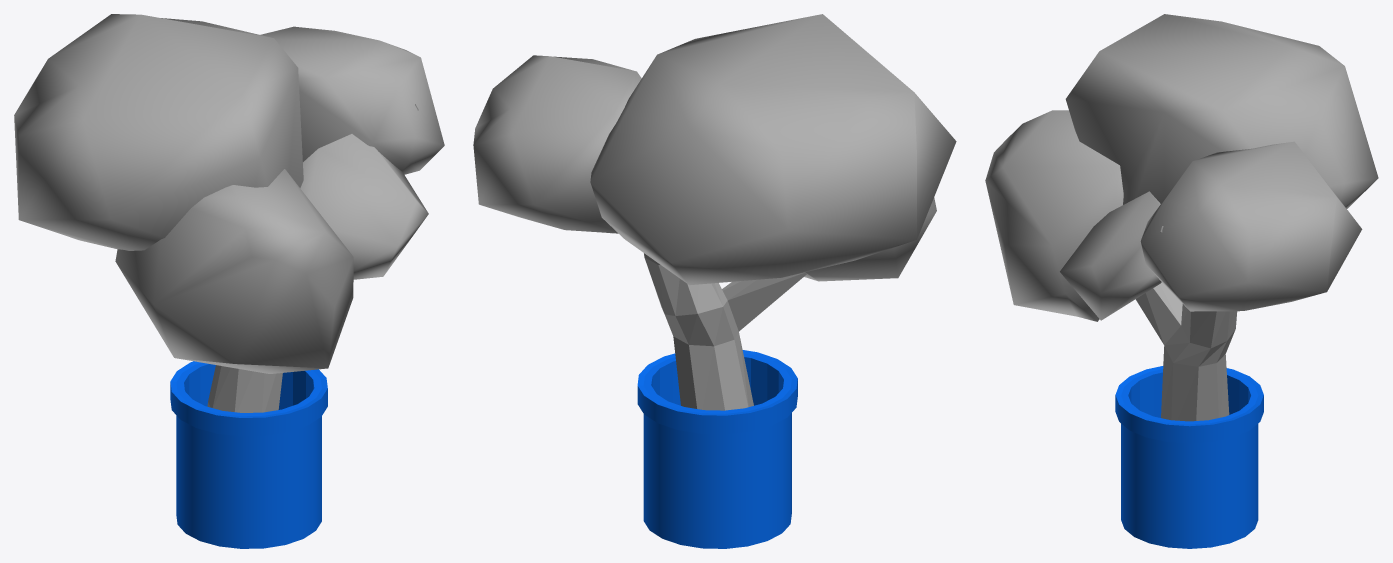
File: plant_01.fbx
3 renders of one model, left to right at view 1: azimuth 30°, elevation 25°; view 2: azimuth 150°, elevation 25°; view 3: azimuth 270°, elevation 25°, orthographic. The views are drawn at different scales.
Visible parts, largest first — view 1: furniture_veron:leaf2, furniture_veron:leaf1, Paint2, furniture_veron:leaf4, furniture_veron:leaf3, furniture_veron:trunk; view 2: furniture_veron:leaf2, Paint2, furniture_veron:leaf4, furniture_veron:trunk, furniture_veron:leaf1; view 3: furniture_veron:leaf2, furniture_veron:leaf4, Paint2, furniture_veron:leaf1, furniture_veron:trunk, furniture_veron:leaf3.
Boxes of the visible parts, left/top/right/bottom form: furniture_veron:leaf2: left=14, top=14, right=303, bottom=250; furniture_veron:leaf1: left=115, top=169, right=353, bottom=373; Paint2: left=170, top=361, right=327, bottom=548; furniture_veron:leaf4: left=260, top=26, right=444, bottom=174; furniture_veron:leaf3: left=300, top=134, right=428, bottom=279; furniture_veron:trunk: left=207, top=104, right=418, bottom=412; furniture_veron:leaf2: left=590, top=14, right=956, bottom=285; Paint2: left=637, top=350, right=797, bottom=548; furniture_veron:leaf4: left=473, top=55, right=641, bottom=233; furniture_veron:trunk: left=644, top=253, right=806, bottom=410; furniture_veron:leaf1: left=804, top=197, right=936, bottom=281; furniture_veron:leaf2: left=1065, top=14, right=1378, bottom=208; furniture_veron:leaf4: left=1140, top=141, right=1362, bottom=311; Paint2: left=1115, top=366, right=1263, bottom=548; furniture_veron:leaf1: left=985, top=110, right=1123, bottom=321; furniture_veron:trunk: left=1135, top=226, right=1237, bottom=421; furniture_veron:leaf3: left=1060, top=191, right=1161, bottom=320.
Bounding box in the file's own units: 1.59 × 1.73 × 1.37.
